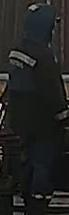vest: (7, 41, 68, 143)
